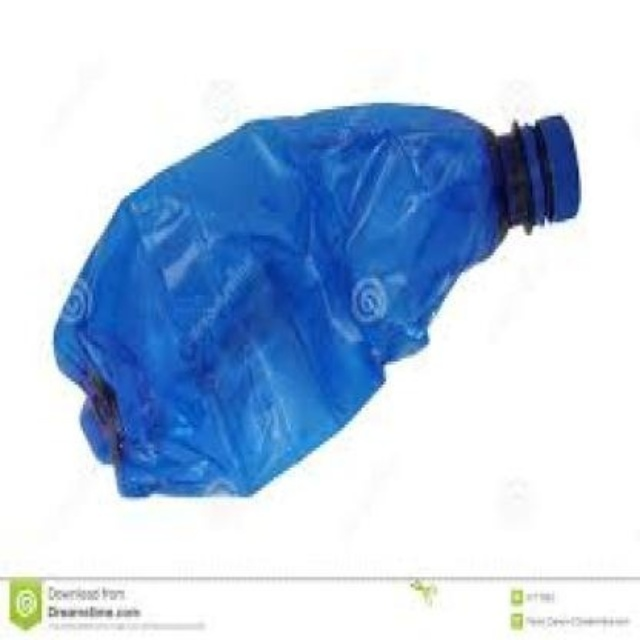trash: (54, 105, 578, 495)
